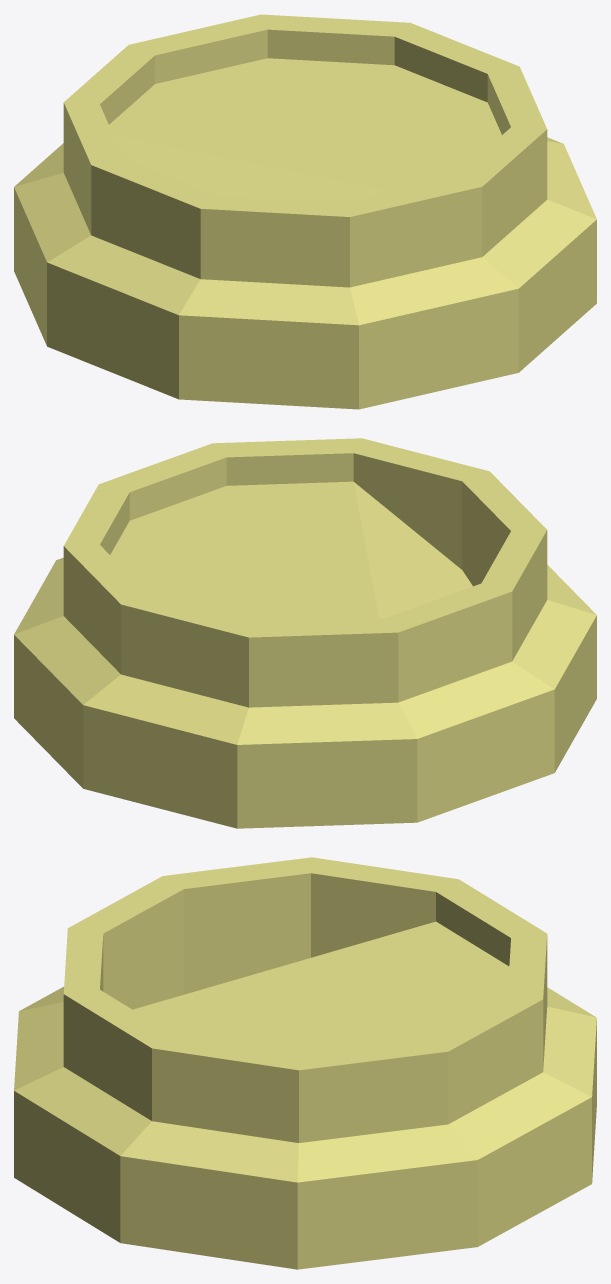
File: CoffeCup.fbx
3 views of the same model, one above another, from view 1: azimuth 30°, elevation 25°; view 2: azimuth 150°, elevation 25°; view 3: azimuth 270°, elevation 25° (orthographic). The views are drawn at different scales.
Visible parts, largest first — view 1: CoffeeCup.001; view 2: CoffeeCup.001; view 3: CoffeeCup.001.
Part boxes in pixels (x1,y1,x2,y2): CoffeeCup.001: (14, 14, 596, 409); CoffeeCup.001: (14, 438, 596, 828); CoffeeCup.001: (14, 857, 596, 1269).
Bounding box in the file's own units: 0.1418 × 0.136 × 0.0457.
